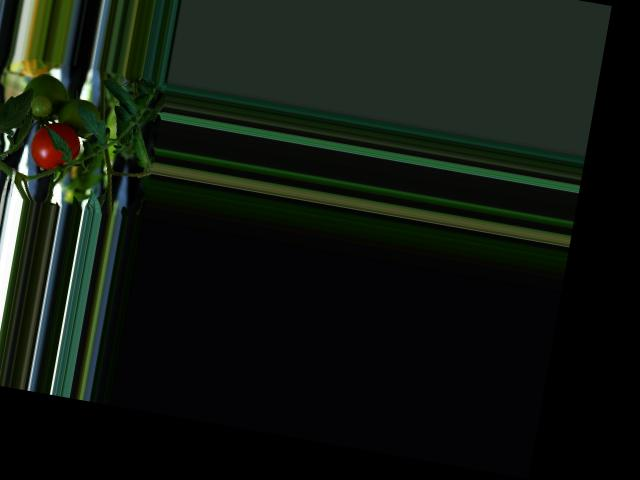tomato: (26, 119, 83, 174)
